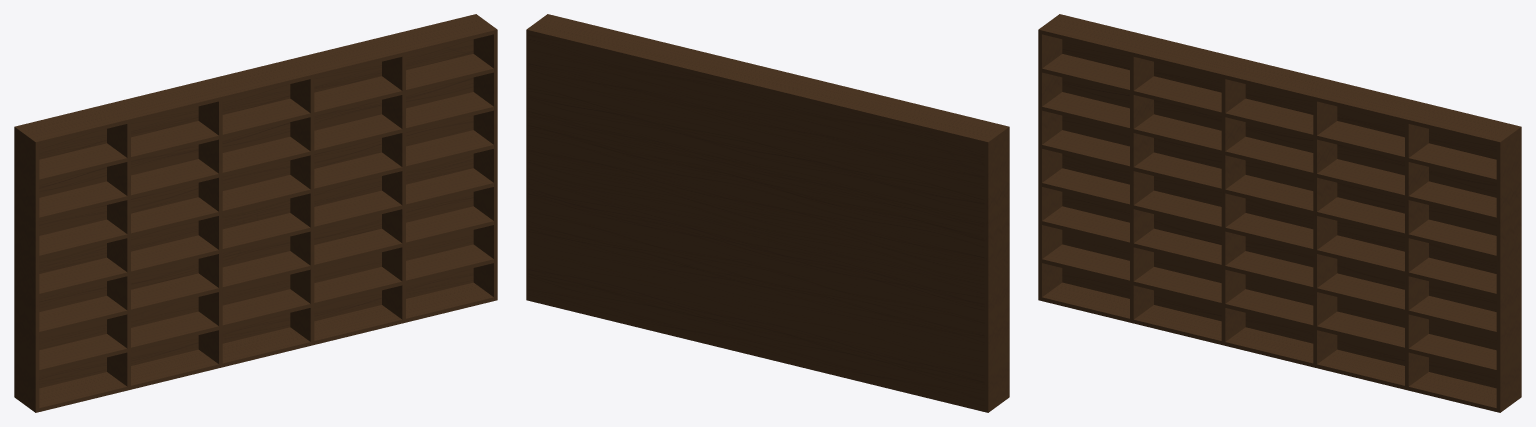
Rendered from kitaplik_modeli.gltf.
3 views of the same model, side by side, from view 1: azimuth 30°, elevation 25°; view 2: azimuth 150°, elevation 25°; view 3: azimuth 330°, elevation 25° (orthographic).
Size of the model in its own units: 5 by 2.8 by 0.4.
1 material, 1 textured.
